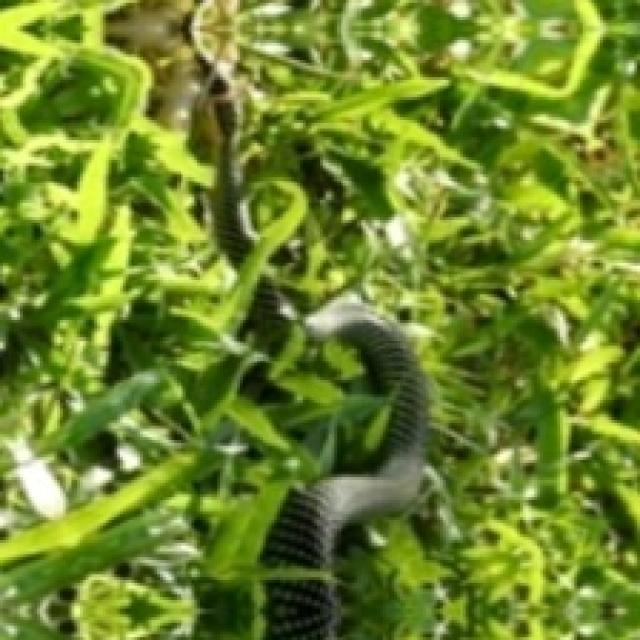paradise tree snake: (262, 292, 428, 569), (192, 0, 254, 266), (266, 579, 338, 640), (250, 281, 298, 337)
